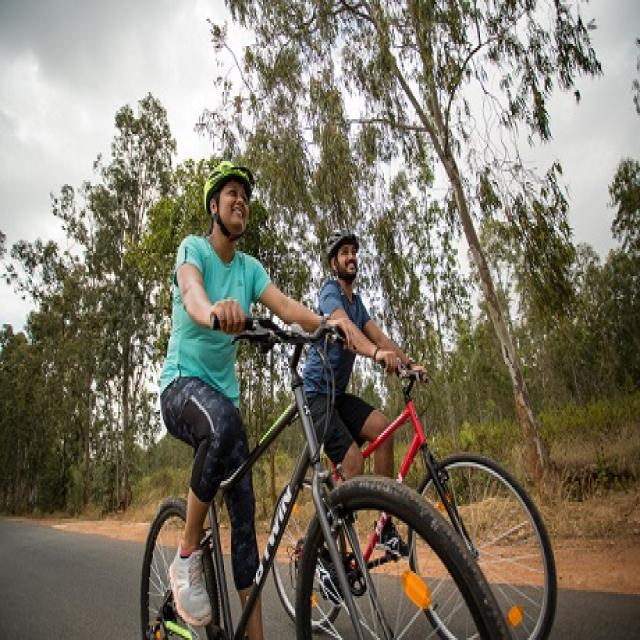bicycle: (141, 162, 510, 639), (304, 229, 556, 638)
